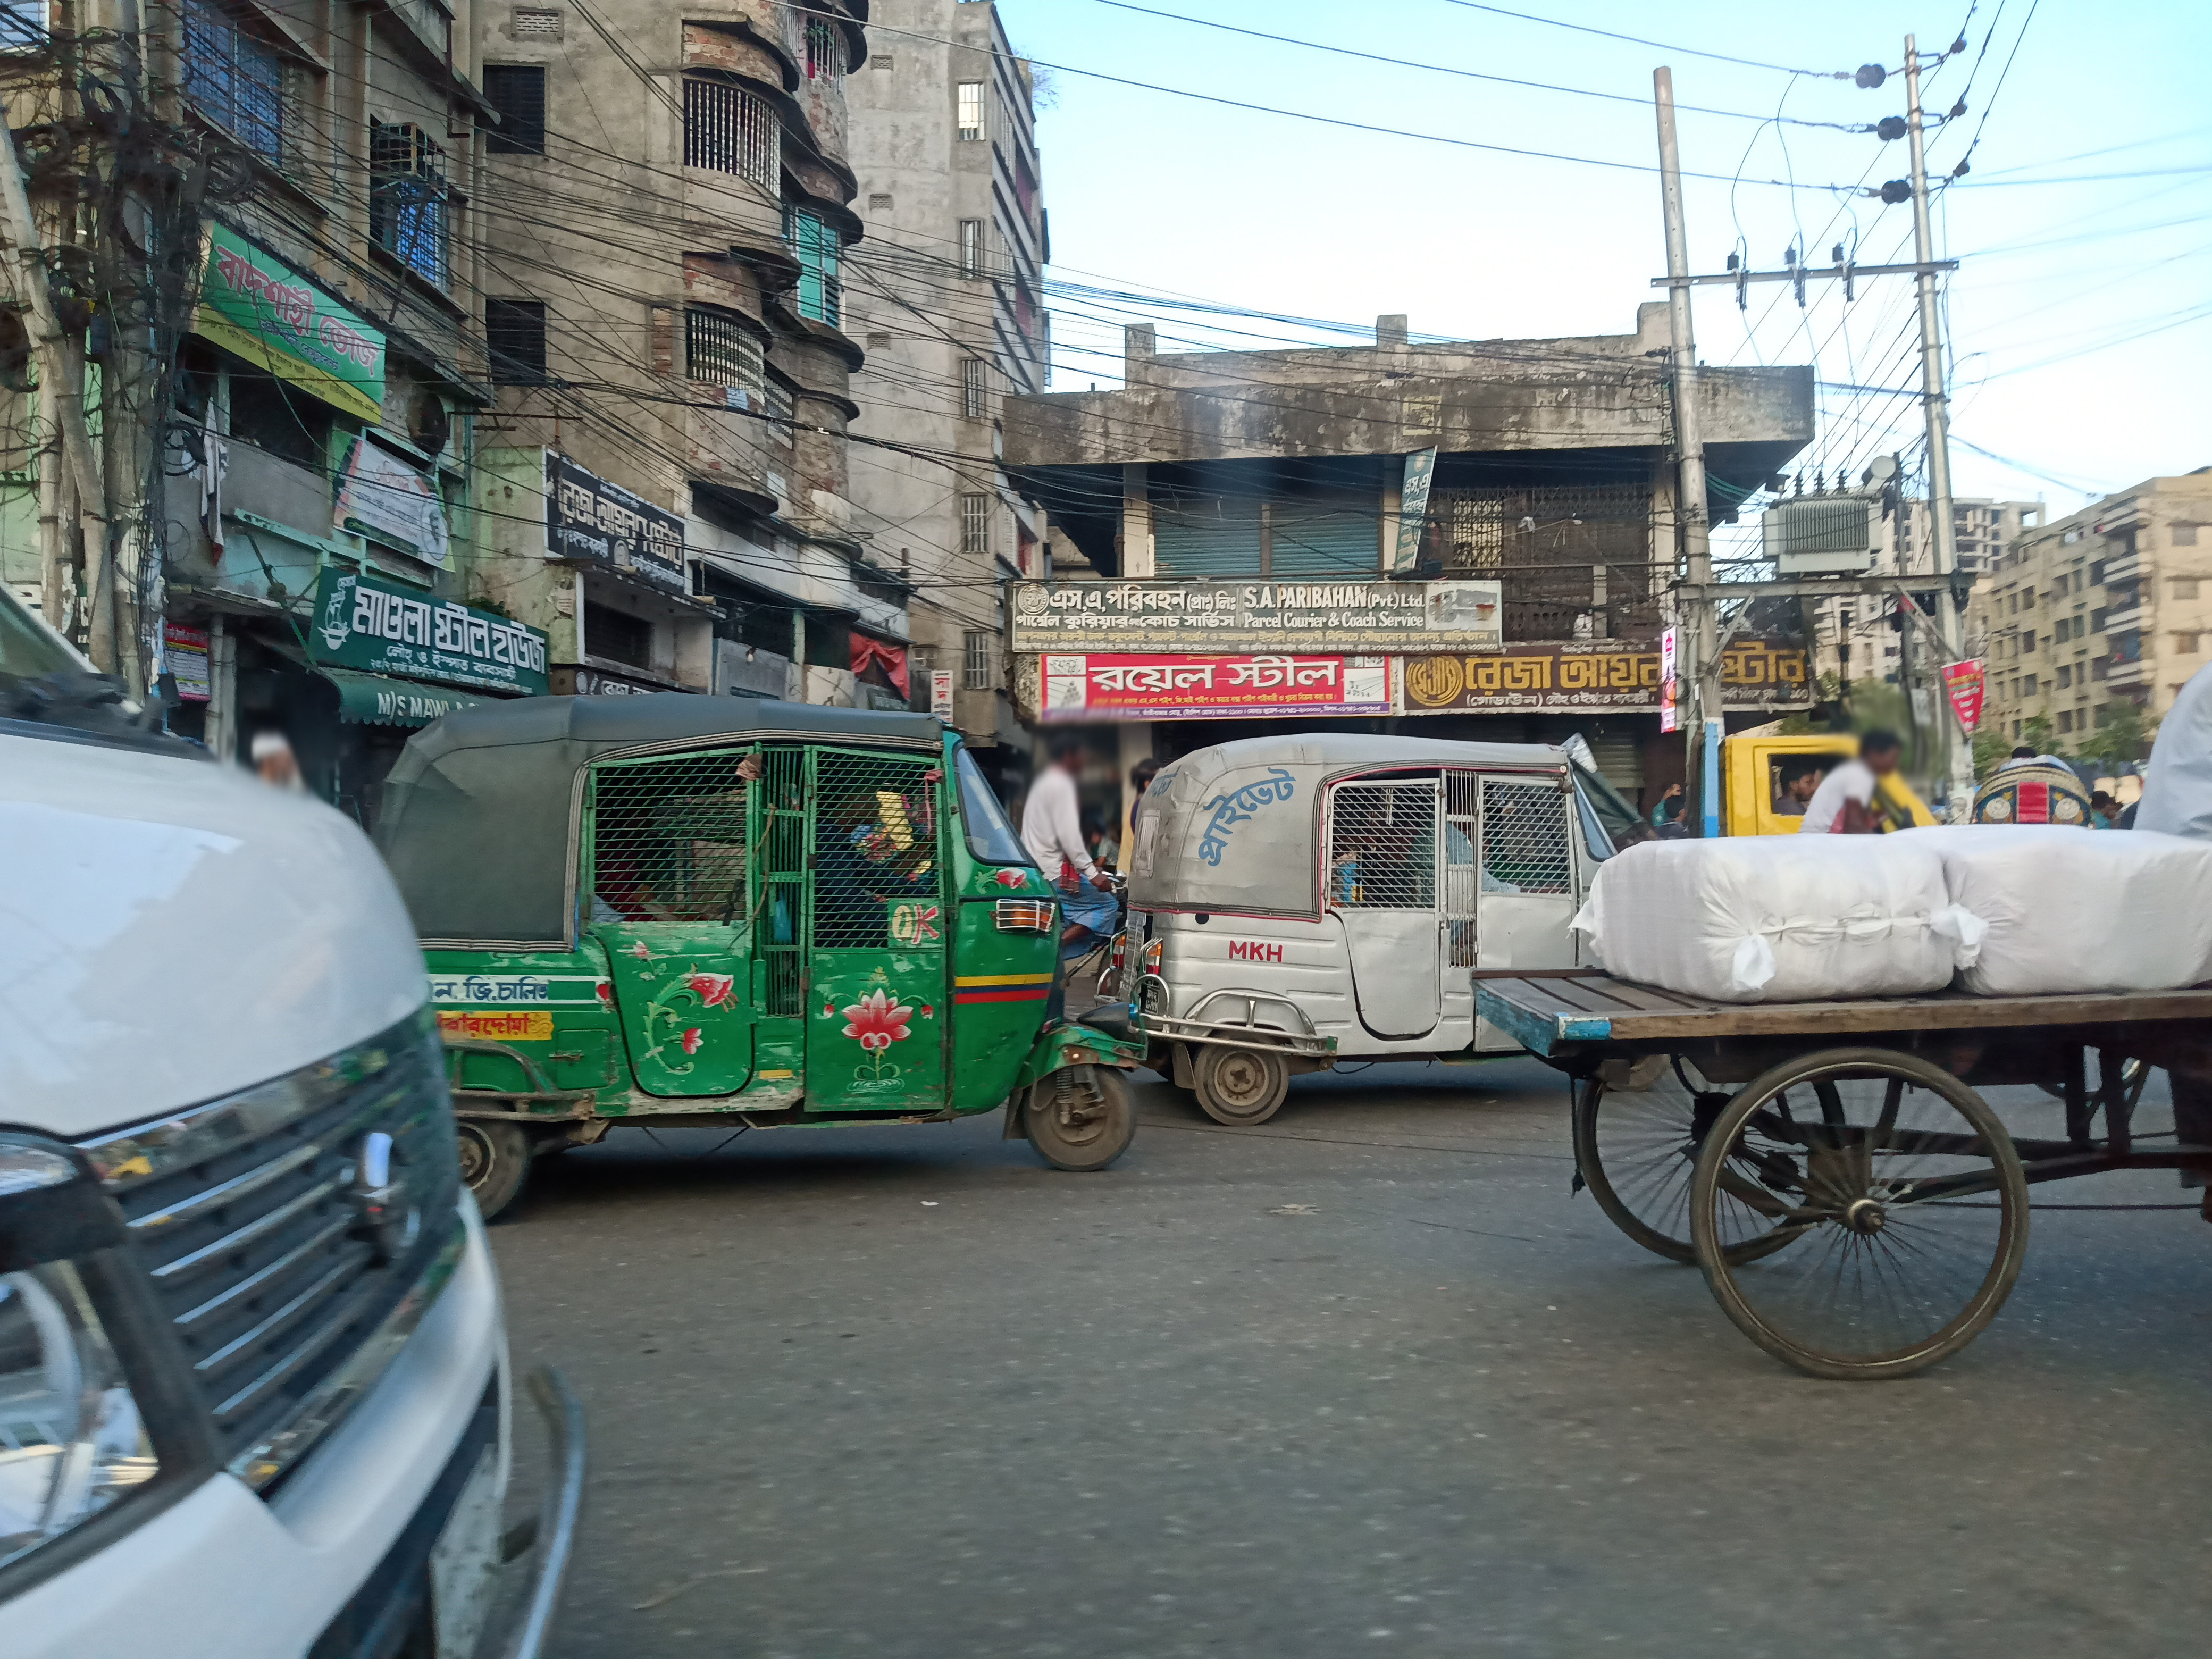car: (0, 594, 592, 1659)
cng: (381, 697, 1146, 1209), (1111, 734, 1658, 1129)
rickshaw: (1951, 758, 2099, 823)
truck: (1660, 720, 1951, 831)
van: (1470, 972, 2191, 1382)
